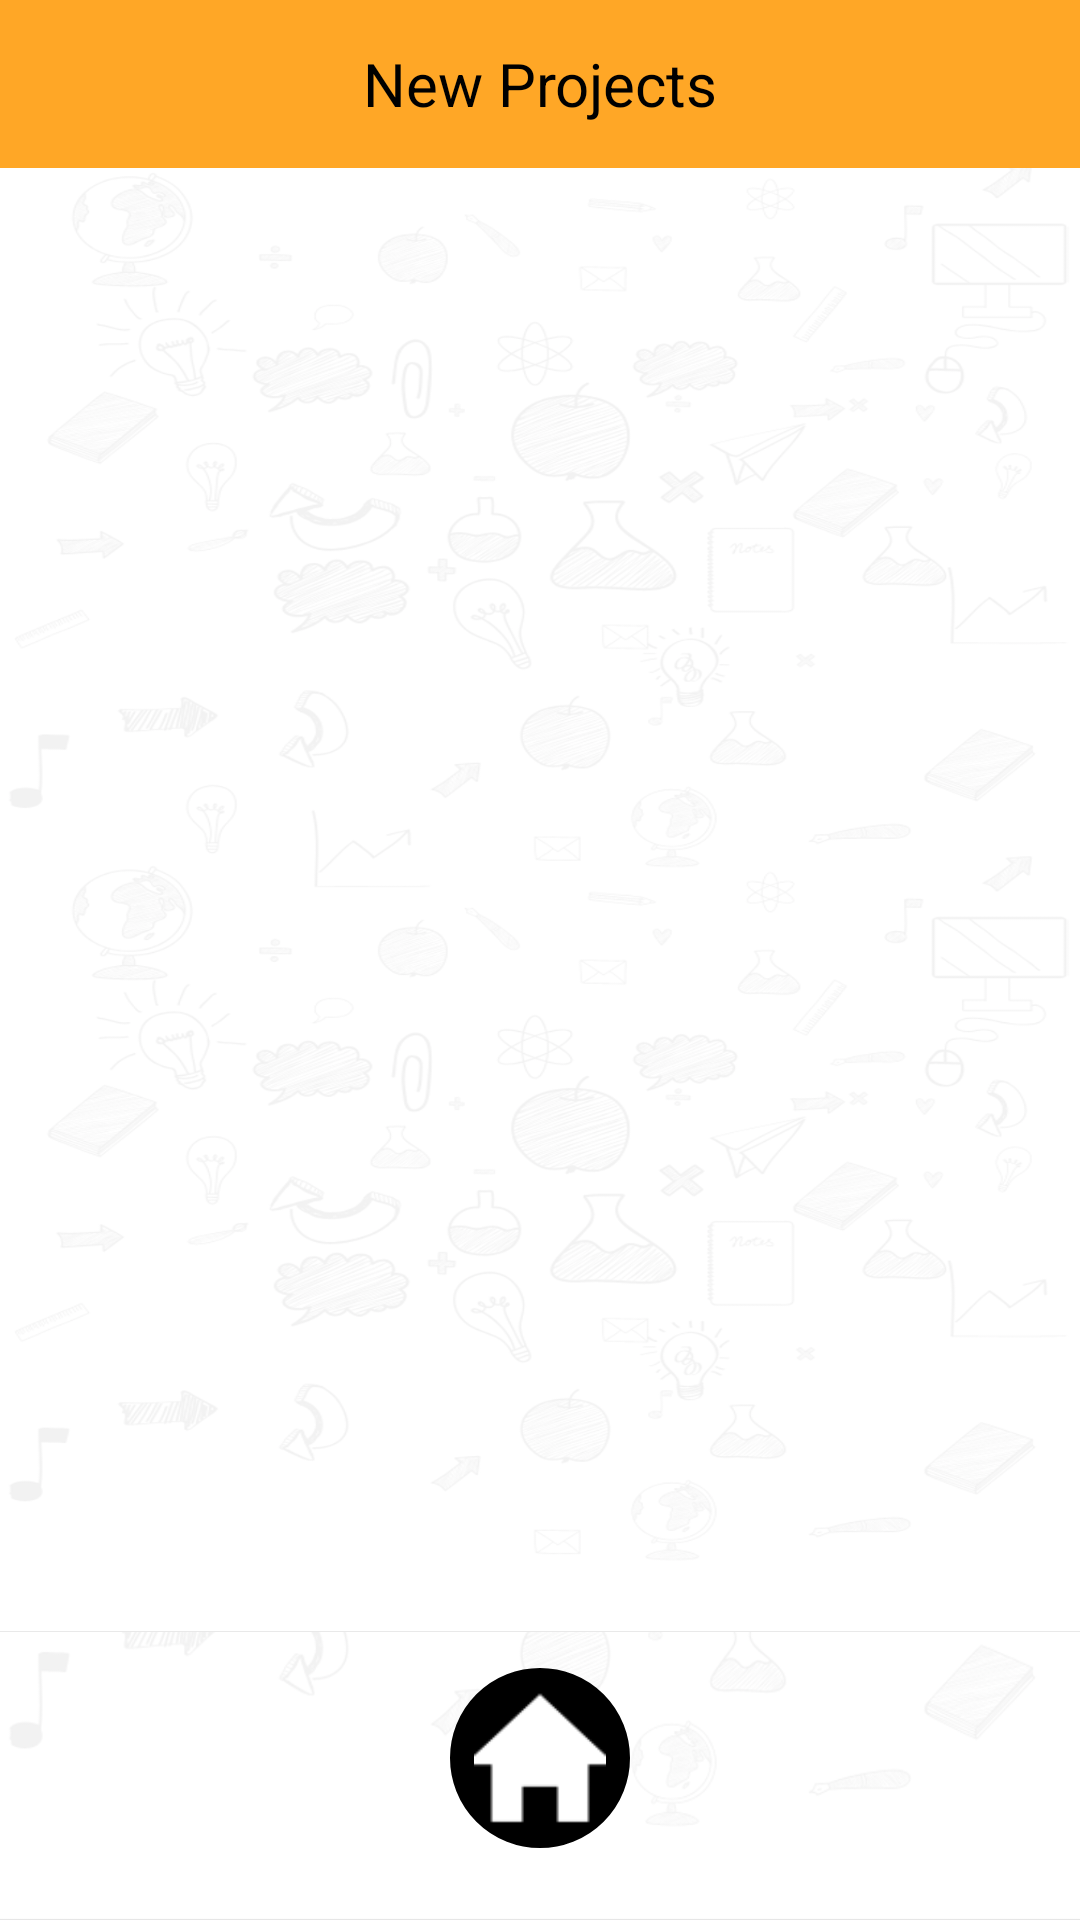

Screen size 1080×1920. Icon name, then its box in pixels as (x1, y1, x2, y2):
home: (450, 1668, 630, 1848)
